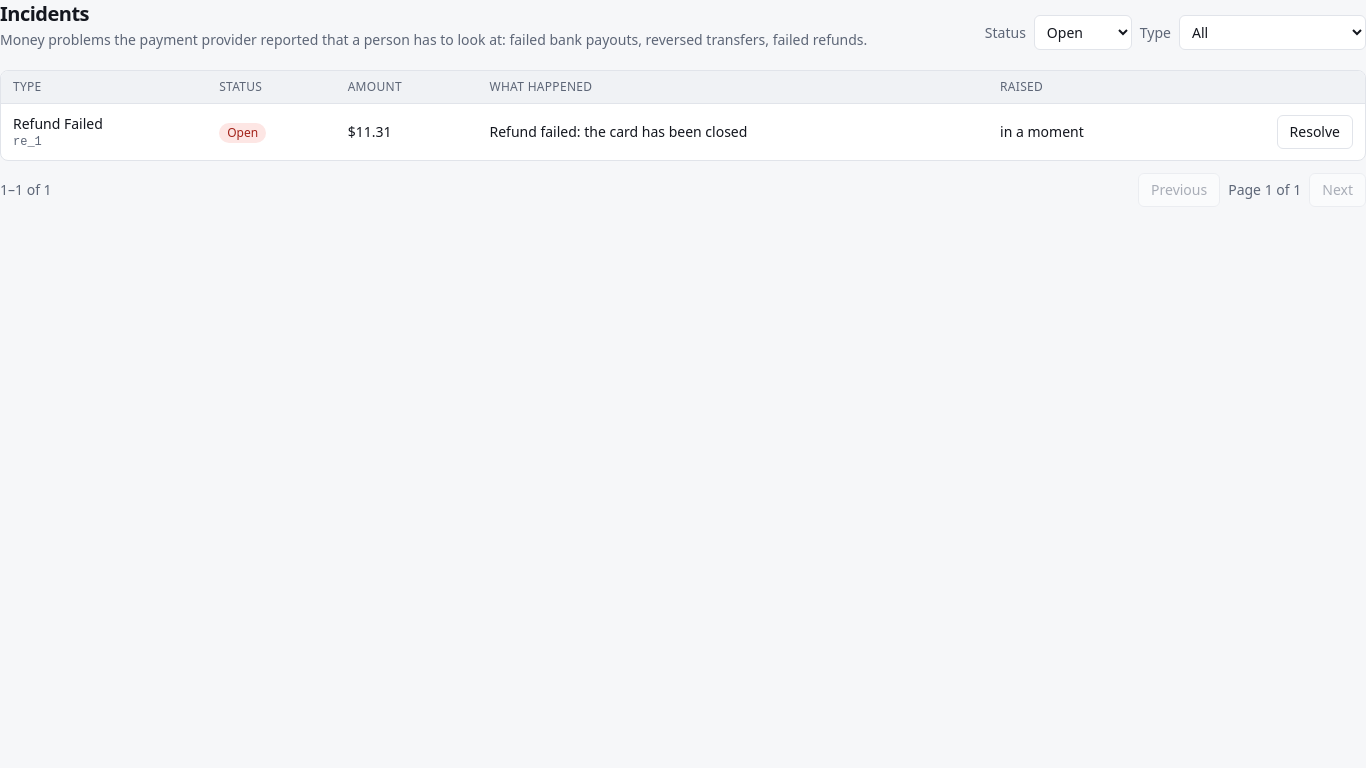
Incidents page › keeps the dialog open and explains when the resolve fails
Click the button "Resolve".
click(1315, 132)  # box [1277,115,1353,149]
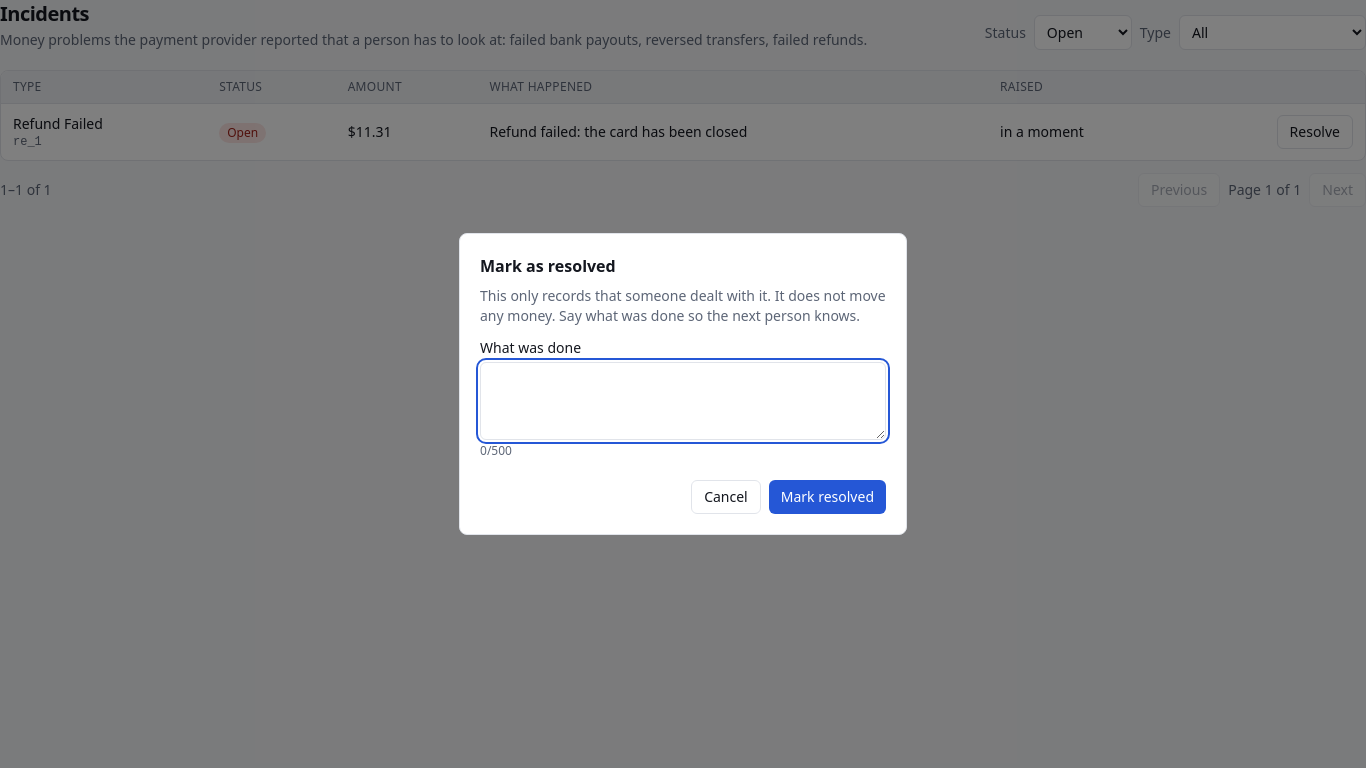
Click the button "Mark resolved".
click(827, 497)  # box [769,480,886,514]
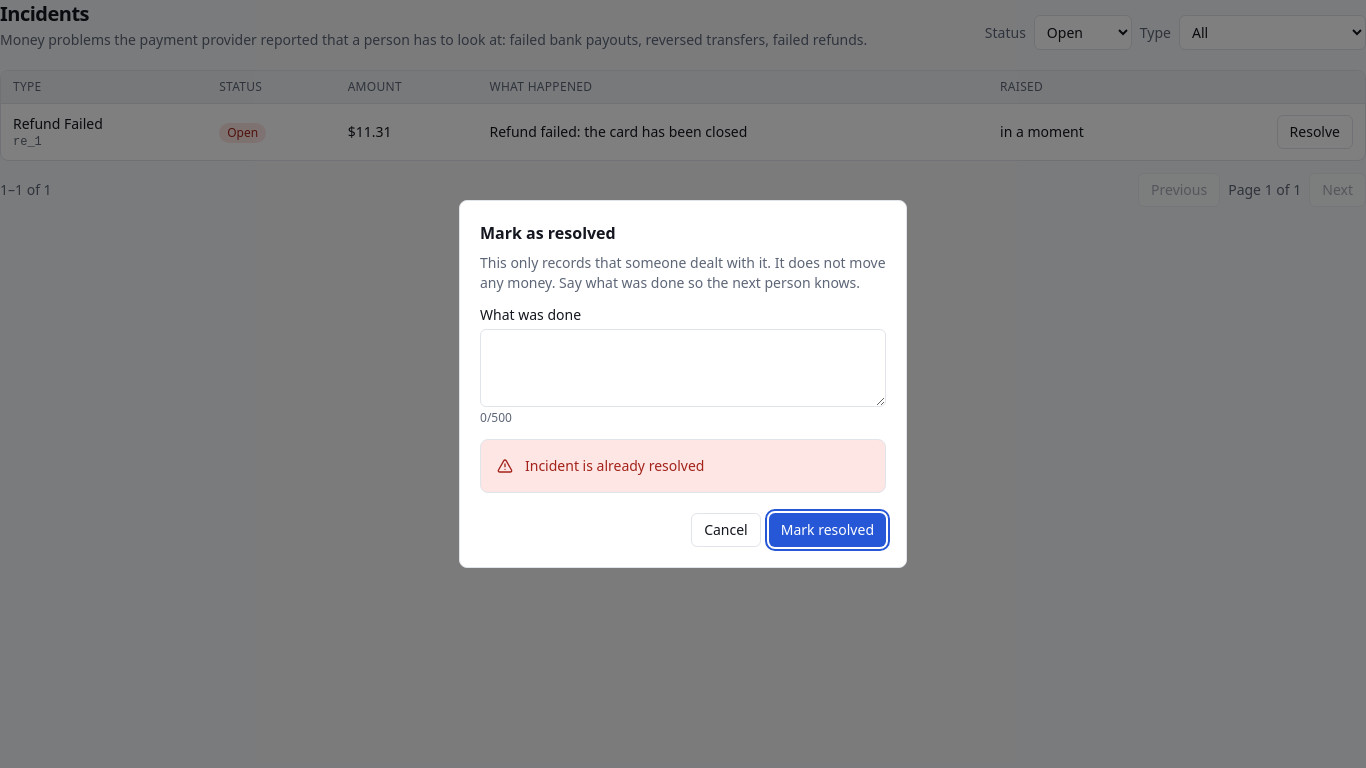
Expected: the text "Incident is already resolved" is shown, [525,456,704,475]
